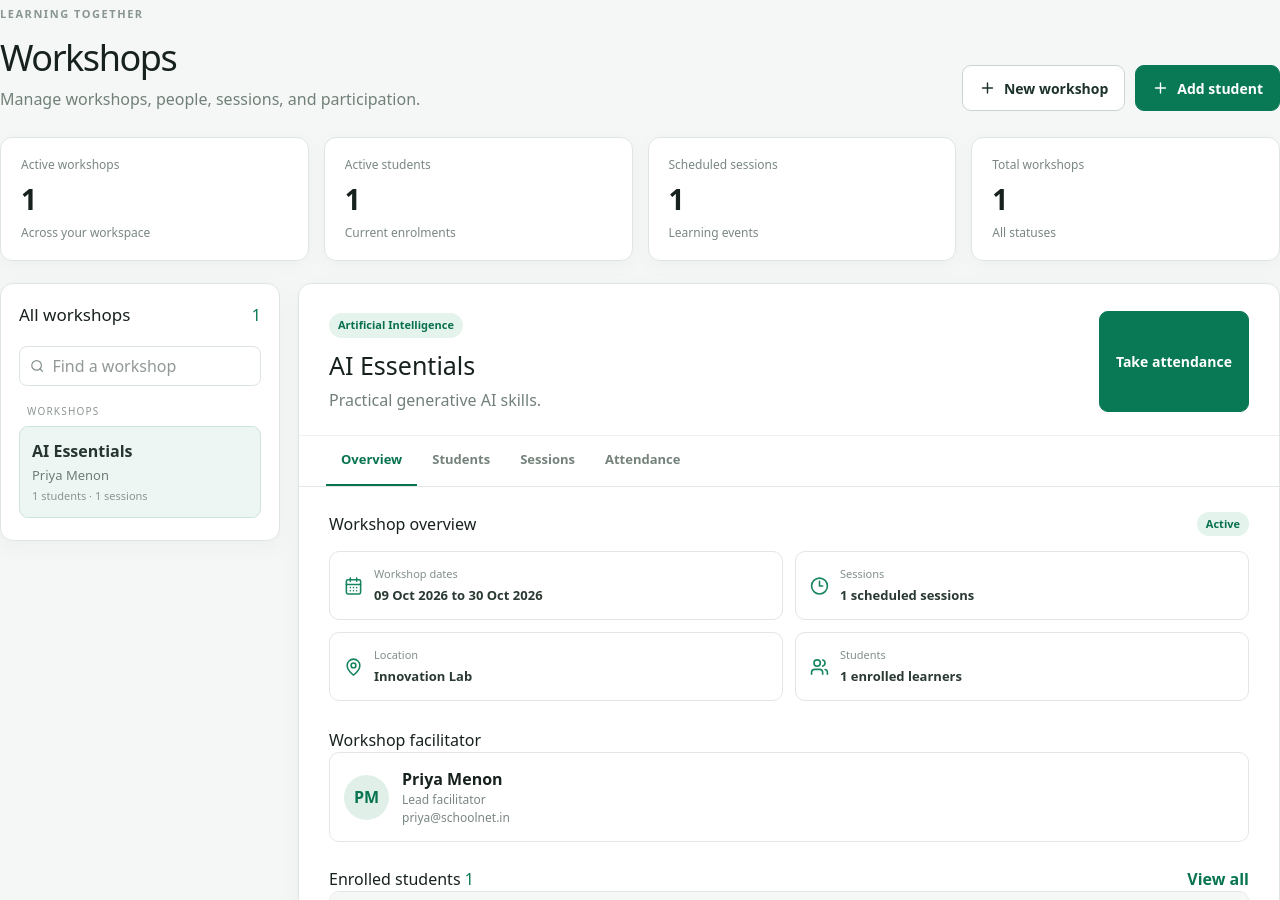
Test case: WorkshopsPage › opens the accessible add student dialog
Click the button "Add student".
click(1208, 88)  # box [1135,65,1279,111]
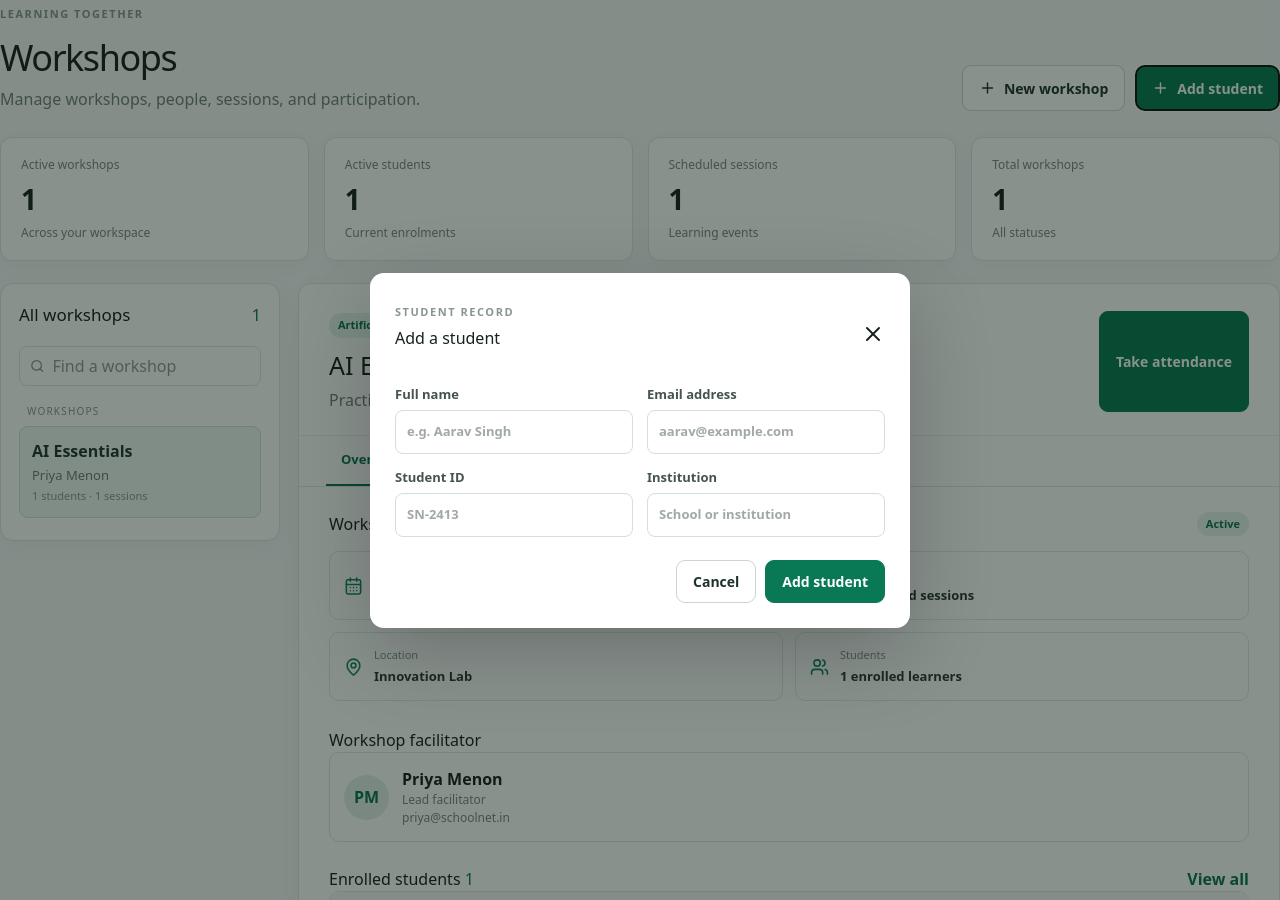
Check: the dialog "Add a student" is shown, box [370,272,910,628]
Check: the field labelled "Full name" is shown, box [395,410,633,454]
